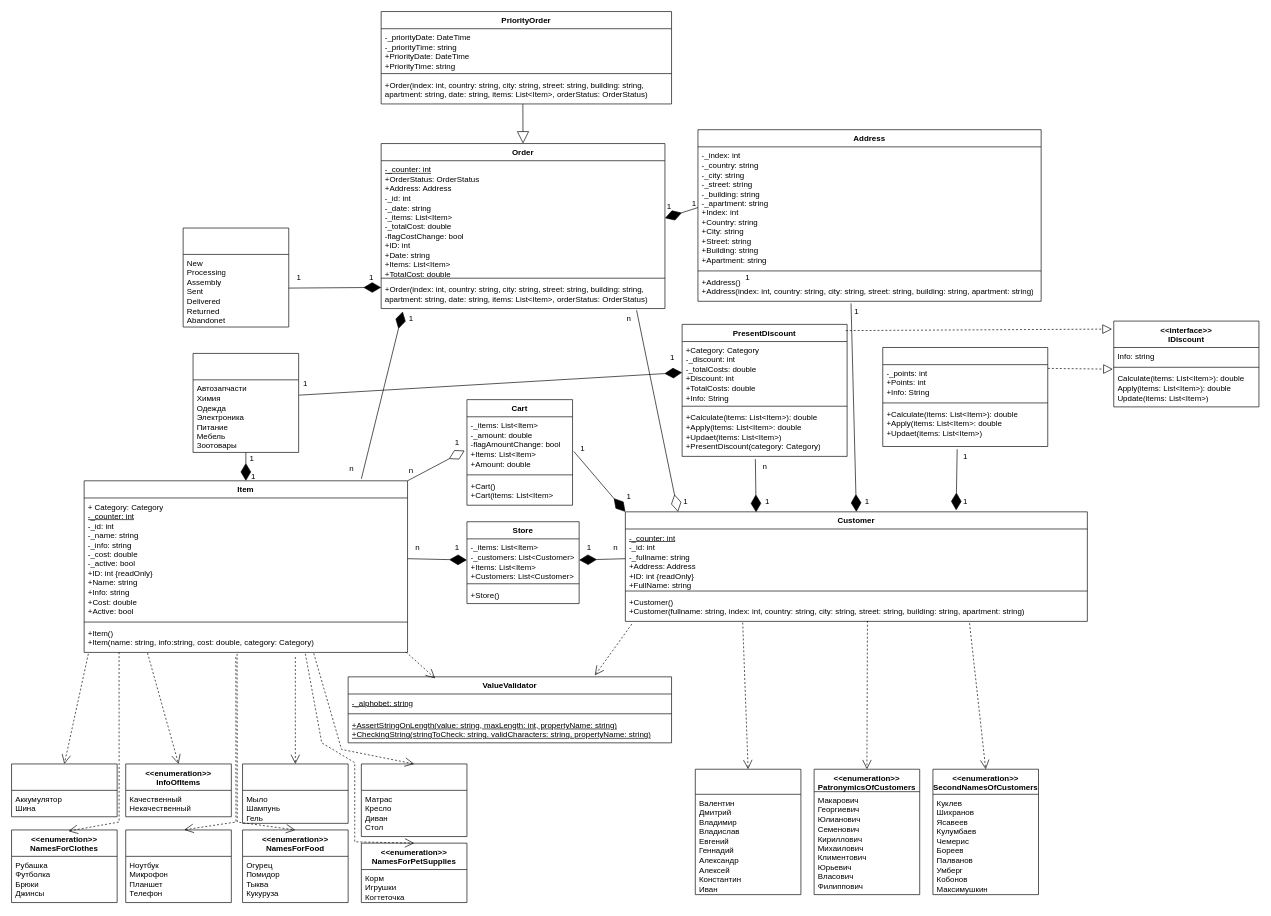
Image size: 1271x916. Some labels were removed from this diagram. The shapes that lost their labels are listed below. From the top down, each one's box as (x1, y1, x2, y2) in pixels, then its label:
(182, 227, 289, 327): <<enumerator>> OrderStatus
(192, 353, 299, 452): <<enumeration>> Category
(882, 347, 1048, 446): PointsDiscount
(11, 763, 117, 817): <<enumeration>> NamesForAutoParts
(242, 763, 348, 823): <<enumeration>> NamesForChemistry
(361, 763, 467, 837): <<enumeration>> NamesForFurniture
(695, 769, 801, 895): <<enumeration>> NamesOfCustomers
(125, 829, 231, 903): <<enumeration>> NamesForElectronics
